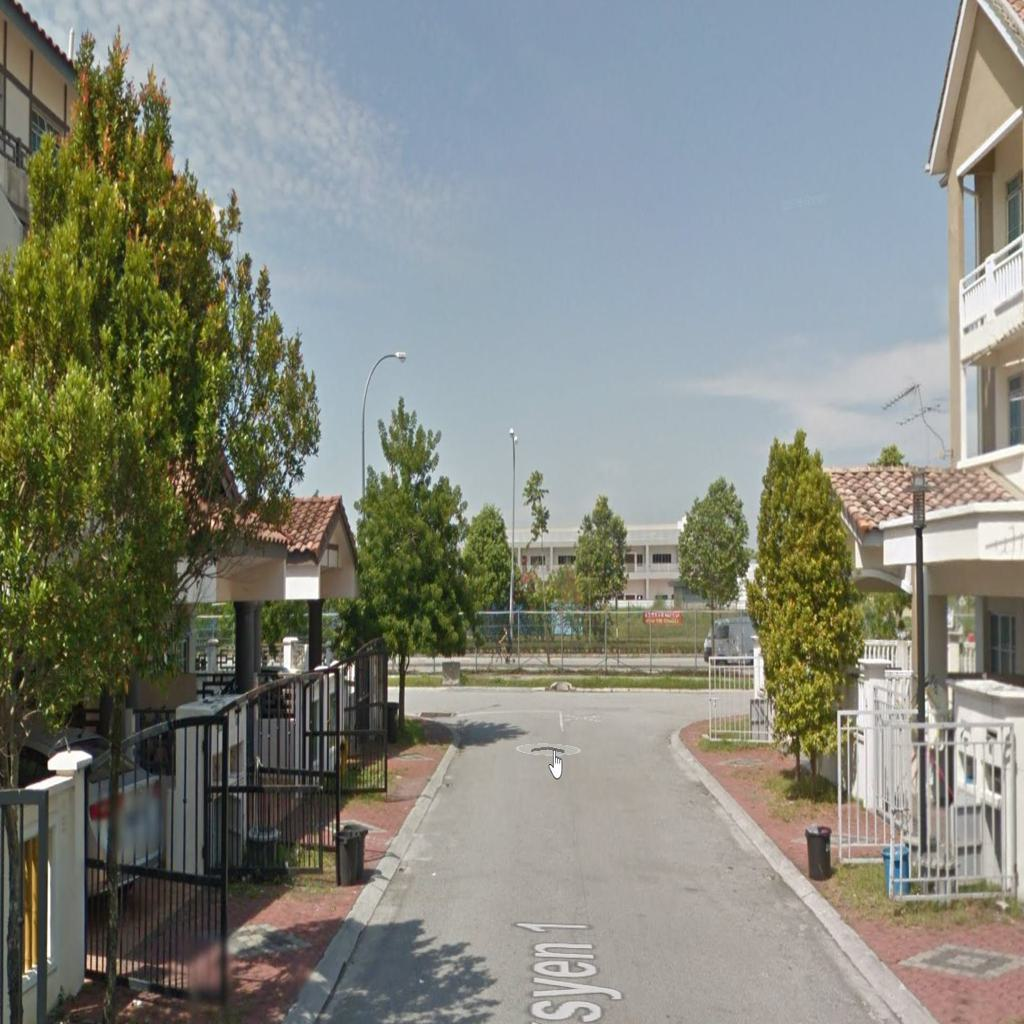Junction: (631, 669, 757, 762), (388, 666, 492, 757)
